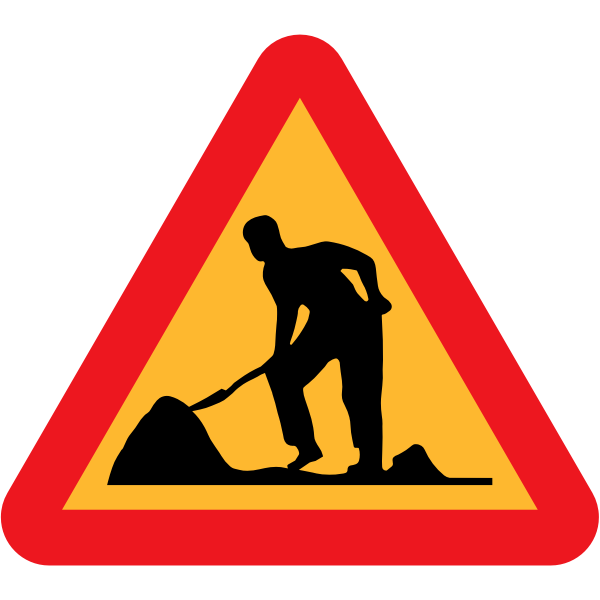Road_workahead: (2, 34, 600, 571)
